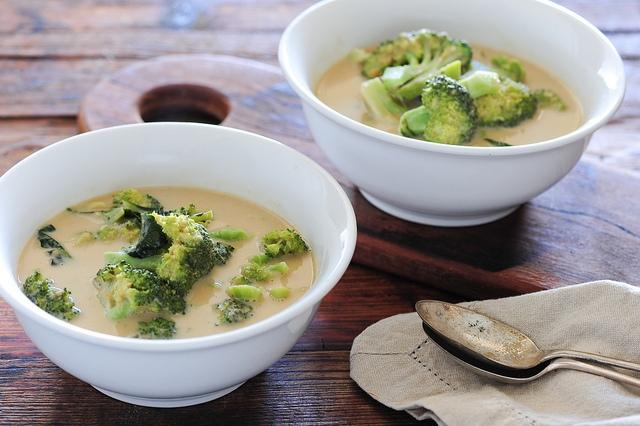broccoli: (106, 209, 217, 297), (94, 260, 188, 321), (398, 75, 478, 146), (457, 70, 538, 128), (380, 29, 456, 89), (248, 229, 308, 266), (32, 288, 80, 320), (112, 188, 162, 213), (212, 298, 254, 326), (490, 55, 526, 84), (136, 316, 179, 340), (241, 262, 290, 282), (533, 88, 568, 111), (210, 228, 252, 242), (228, 284, 264, 298), (228, 276, 252, 286)
